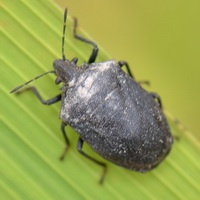insect: (10, 8, 172, 183), (22, 72, 64, 100)
